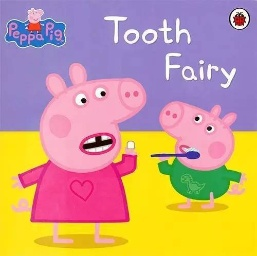Peppa: (11, 61, 150, 248)
